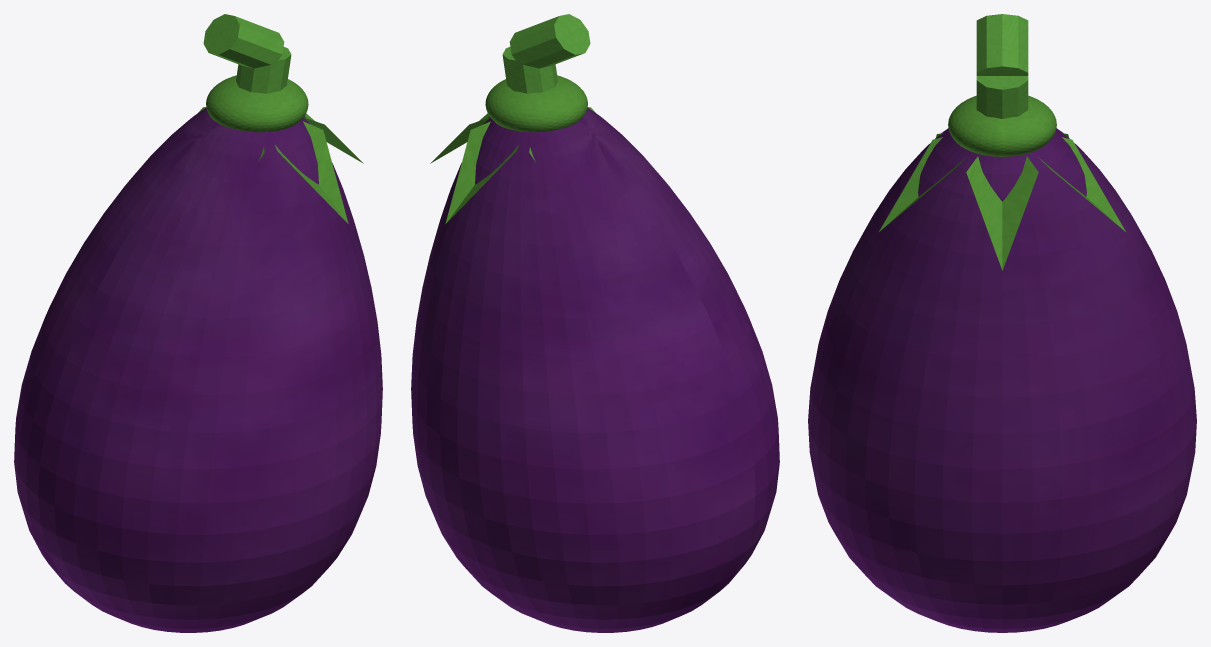
Rendered from eggplant-cartoon3.glb.
3 renders of one model, left to right at view 1: azimuth 30°, elevation 25°; view 2: azimuth 150°, elevation 25°; view 3: azimuth 270°, elevation 25°, orthographic. The views are drawn at different scales.
Parts seen in each view (by area): view 1: Eggplant; view 2: Eggplant; view 3: Eggplant.
Part boxes in pixels (x1,y1,x2,y2): Eggplant: (14, 14, 382, 632); Eggplant: (411, 14, 779, 632); Eggplant: (808, 14, 1196, 632).
Bounding box in the file's own units: 1.5 × 2.59 × 1.46.
3 materials, 3 textured.
